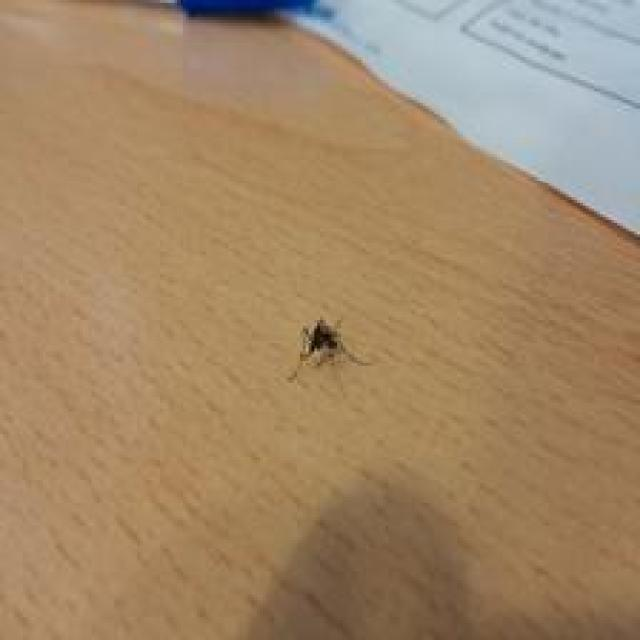Aedes albopictus: (286, 316, 371, 384)
